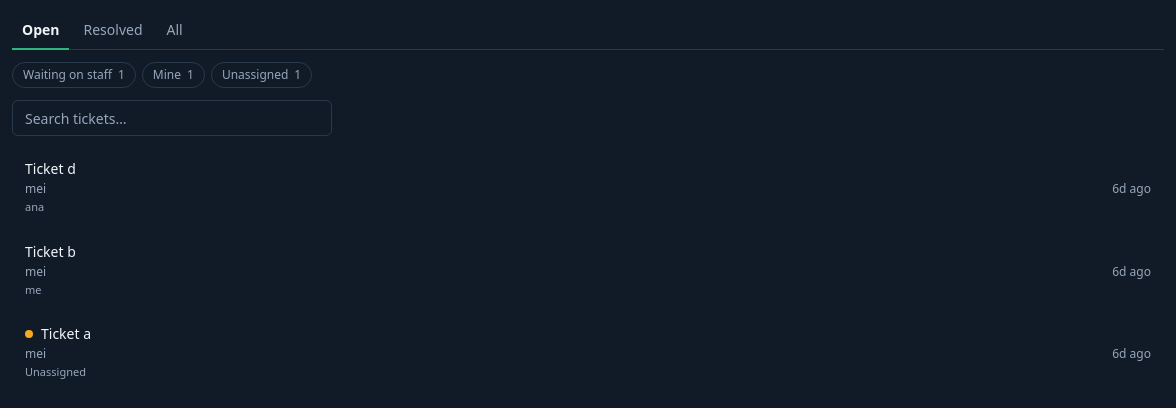
TicketQueue › counts each quick filter and applies one at a time
Expected: the button "Mine 1" is shown, [142,62,205,88]
Expected: the button "Unassigned 1" is shown, [211,62,312,88]
Click the button "Waiting on staff 1". click: point(74, 75)
box: [12,62,136,88]
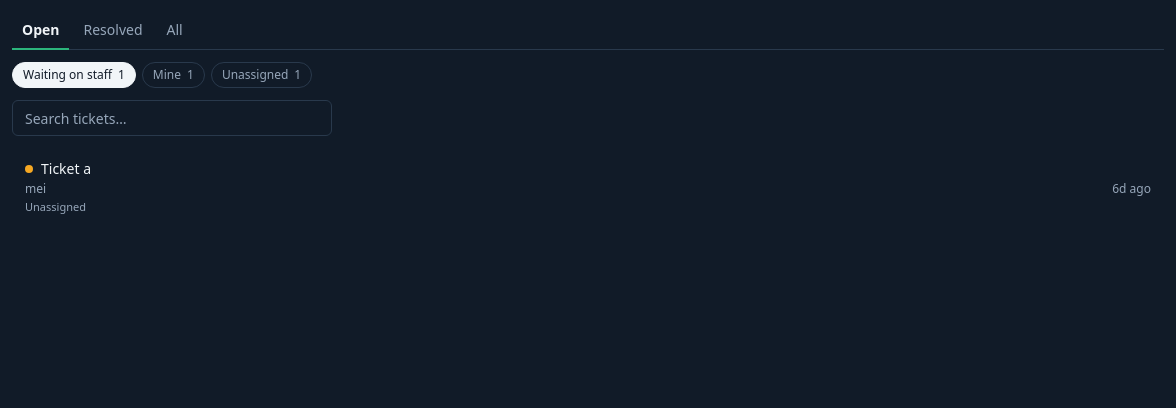
Expected: the text "Ticket a" is shown, [41,159,91,179]
Now the number of list items is 1, box [12,148,1164,226]
Click the button "Waiting on staff 1". click: point(74, 75)
box: [12,62,136,88]
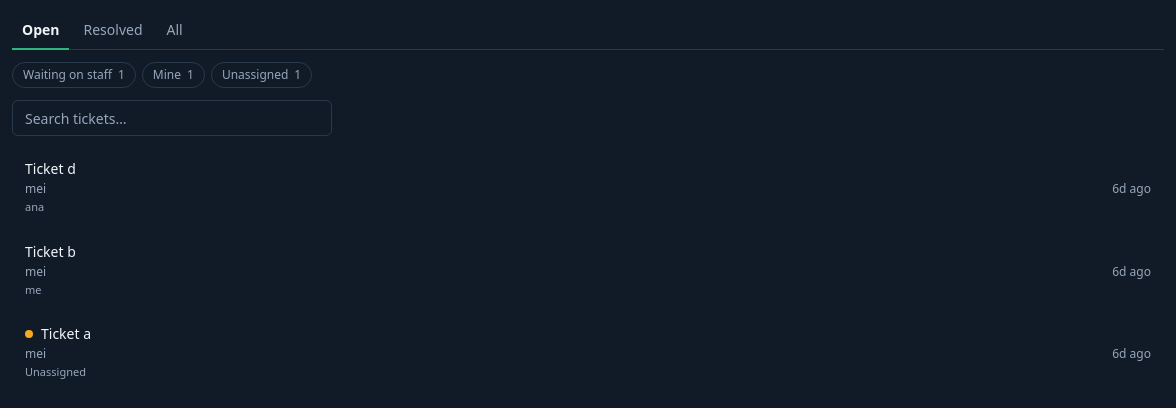
Now the number of list items is 3, box [12,148,1164,226]; [12,230,1164,309]; [12,313,1164,392]
